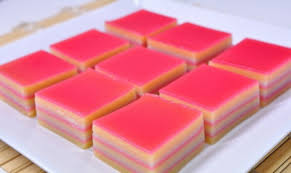kanomchan: (31, 64, 146, 153), (89, 87, 208, 173), (157, 61, 266, 150), (92, 41, 195, 104), (1, 48, 79, 123)
